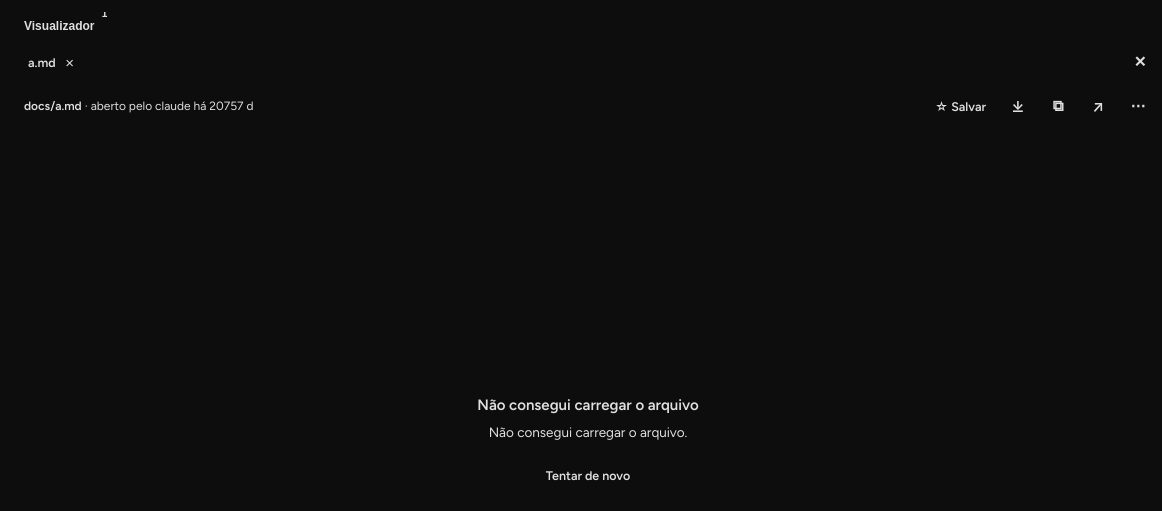
ViewerPanel › erro de rede: "Tentar de novo" refaz a busca
Expected: the text "Não consegui carregar o arquivo" is shown, [477,394,699,416]
Click the button "Tentar de novo" at (588, 476), box [536,458,640,494]
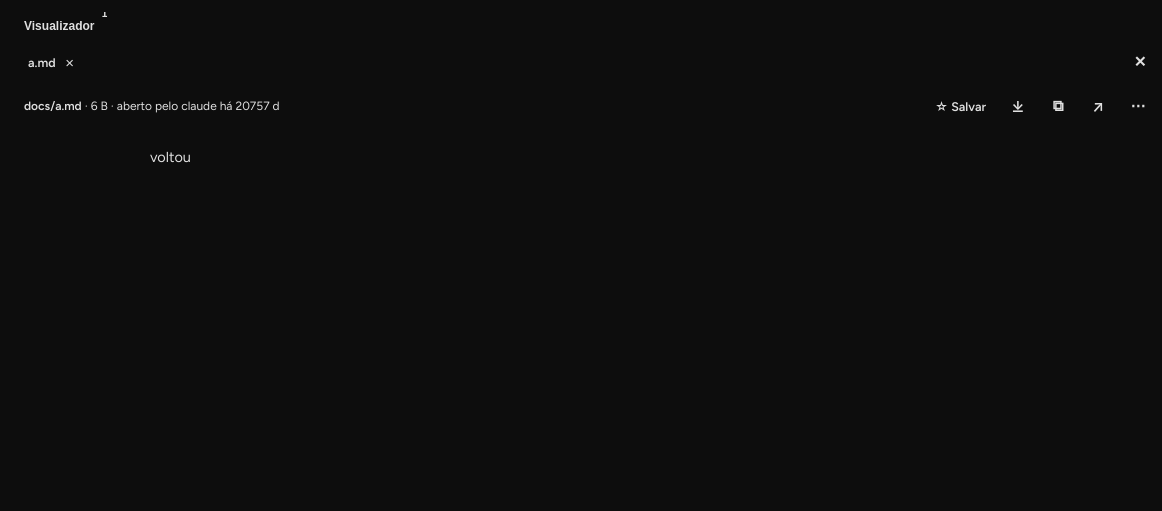
Result: the text "voltou" is shown at [150,148,191,166]
